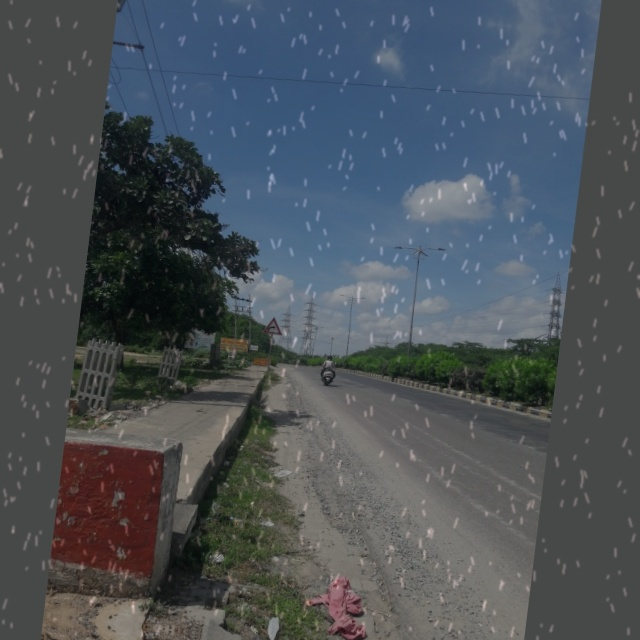Right_Hand_Curve: (263, 317, 281, 335)
